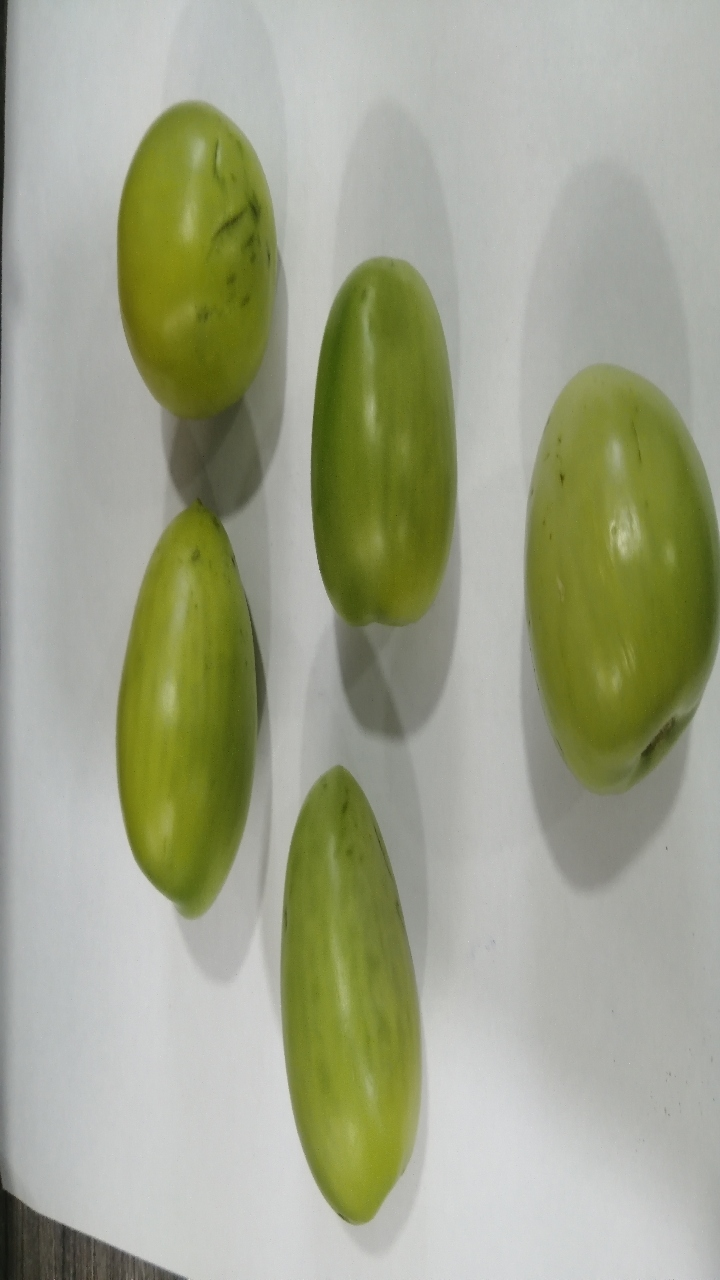tomateVerde: (497, 339, 720, 800), (86, 491, 284, 922), (263, 759, 437, 1222), (308, 248, 474, 625), (111, 94, 284, 419)
